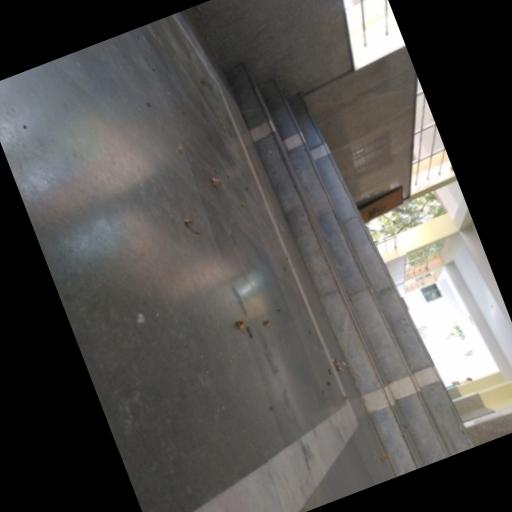stairs: (226, 64, 472, 476)
